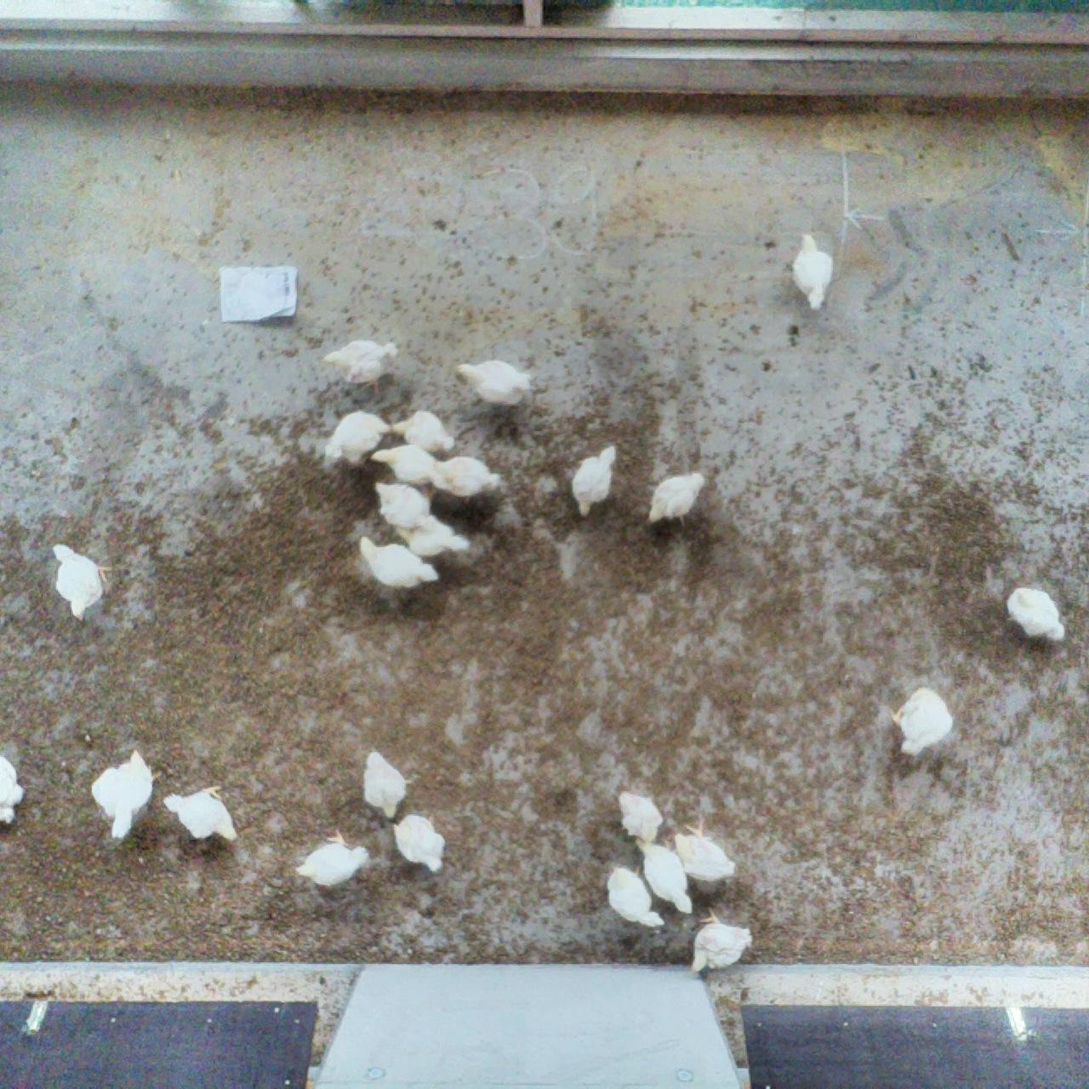chicken: (91, 745, 160, 843), (163, 776, 248, 852), (636, 836, 707, 922), (452, 356, 546, 418), (292, 832, 381, 897), (893, 685, 965, 761), (683, 914, 767, 979), (355, 529, 435, 596), (602, 854, 670, 929), (641, 466, 716, 532), (46, 543, 109, 619), (314, 413, 398, 466), (353, 744, 409, 821), (789, 229, 840, 313), (322, 337, 409, 386), (372, 439, 450, 492), (570, 441, 622, 520), (397, 518, 477, 568), (430, 460, 509, 506), (673, 832, 744, 883), (1010, 590, 1073, 647), (394, 814, 455, 872), (617, 781, 670, 846), (390, 409, 466, 452), (373, 485, 440, 531), (0, 742, 29, 832)
